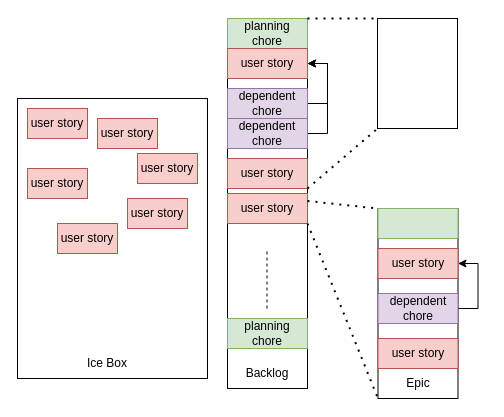
The diagram is 504 pixels wide and 417 high, and some of its shapes have lost their labels. The shapes that lost their labels are listed below. From the top down, each one's centre as x and y in pixels, then its label:
At point 417,73: "Sprint".
At point 417,223: "spike chore".
